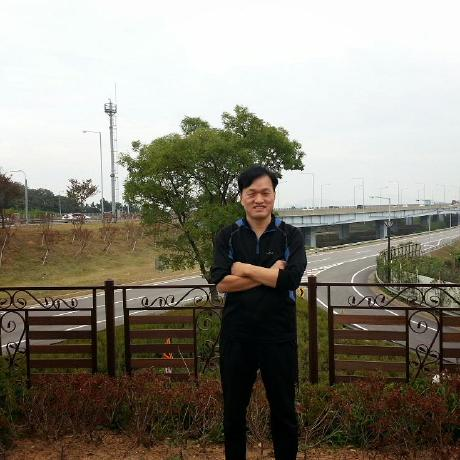f: (232, 155, 283, 234)
